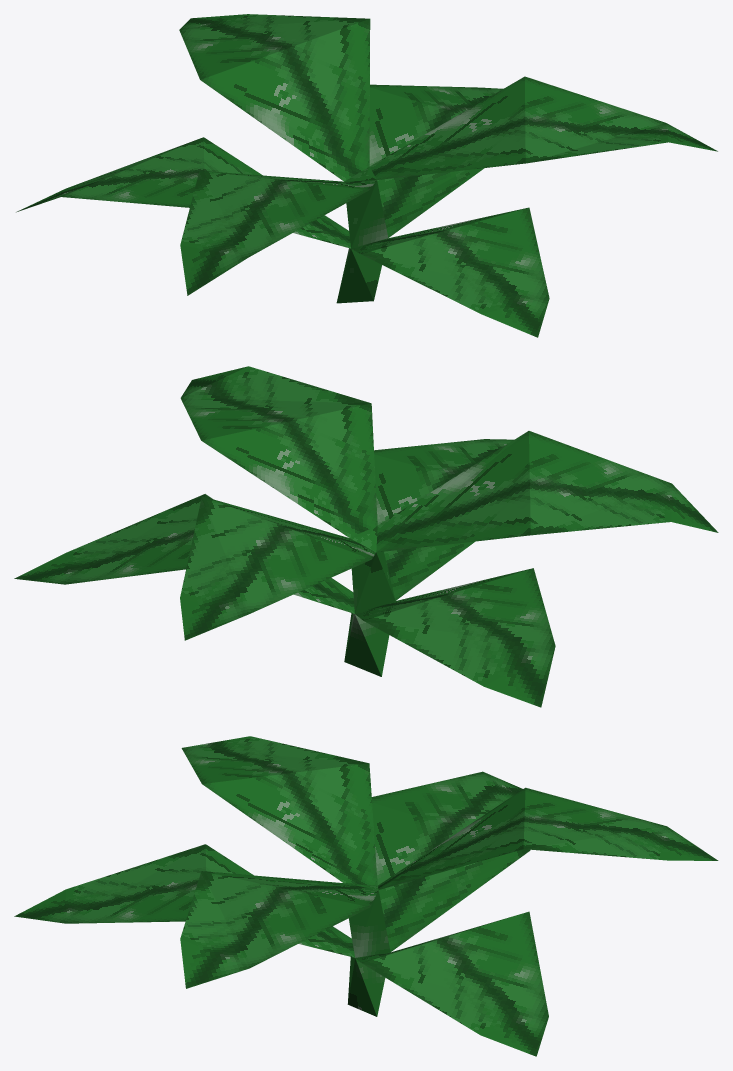
File: plant.obj
3 renders of one model, top to bottom at view 1: azimuth 30°, elevation 25°; view 2: azimuth 150°, elevation 25°; view 3: azimuth 270°, elevation 25°, orthographic.
Visible parts, largest first — view 1: Cylinder; view 2: Cylinder; view 3: Cylinder.
Part boxes in pixels (x1=…): Cylinder: x1=16, y1=14, x2=717, y2=337; Cylinder: x1=14, y1=366, x2=718, y2=707; Cylinder: x1=14, y1=736, x2=718, y2=1056.
Size of the model in its own units: 1.71 by 0.6413 by 1.99.
